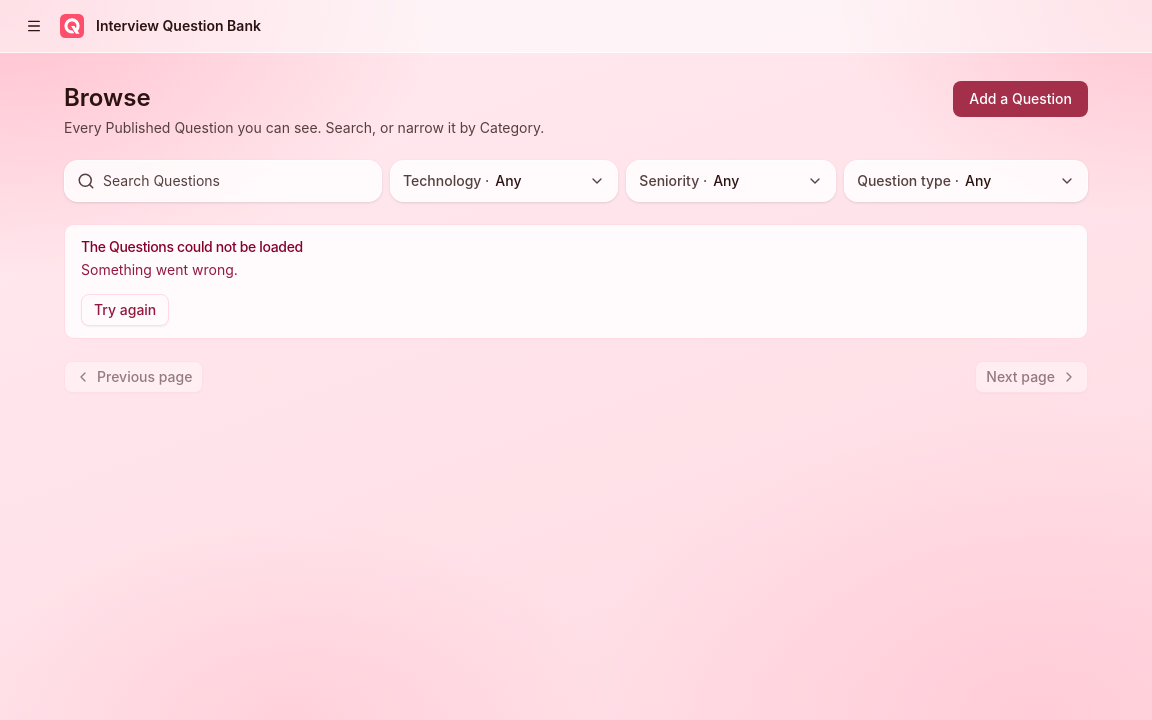
Test: a list the API did not give › asks again when the Viewer says to try again
Expected: the message "The Questions could not be loaded Something went wrong. Try again" is shown, [64, 224, 1088, 339]
Click the button "Try again".
click(125, 310)  # box [81, 294, 169, 326]
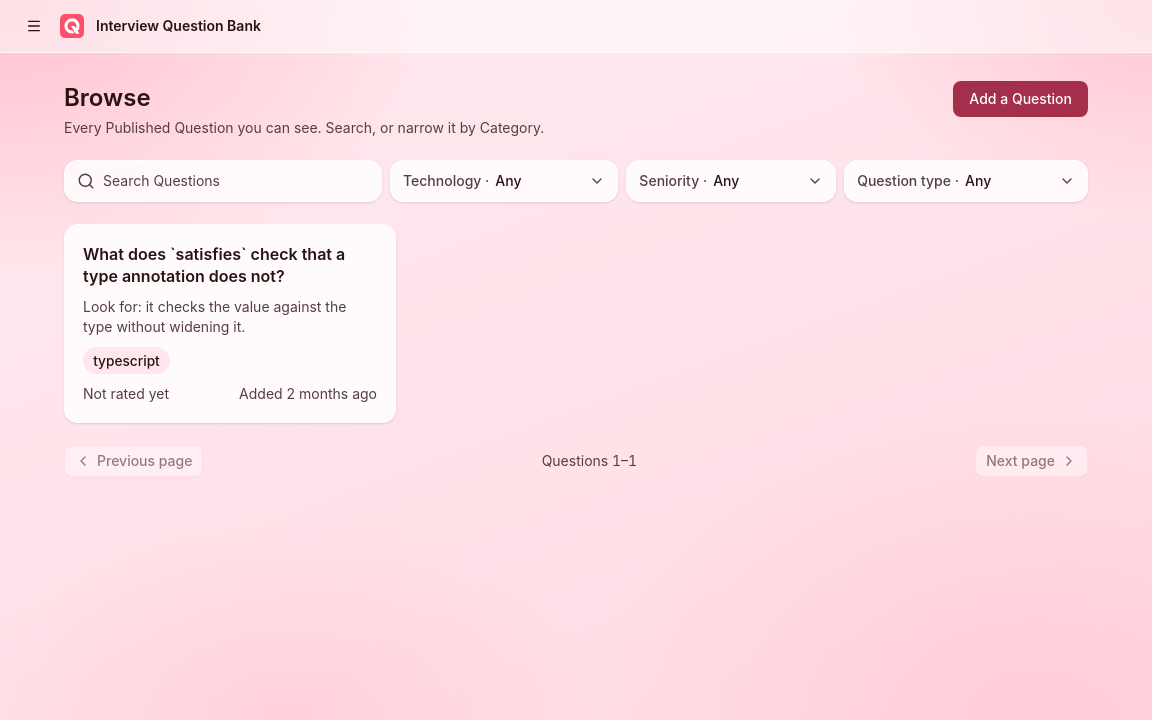
Expected: the link "What does `satisfies` check that a type annotation does not?" is shown, [83, 244, 345, 286]
